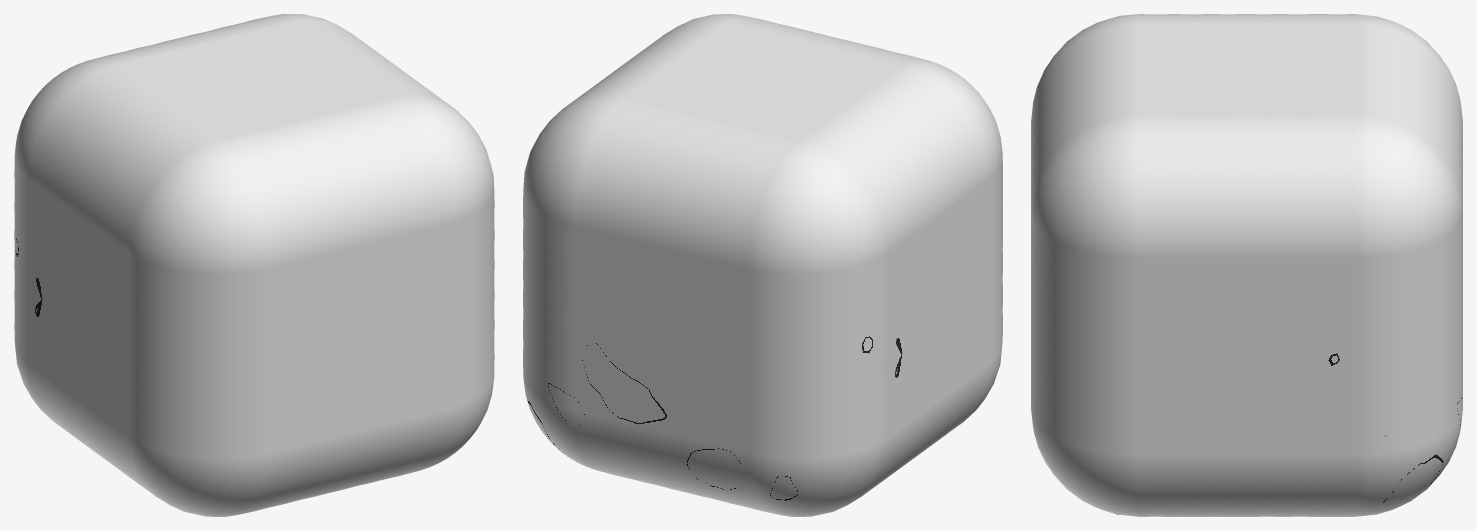
File: cube_100mm_fillet_25mm_cgal_authalic_result.glb
3 renders of one model, left to right at view 1: azimuth 30°, elevation 25°; view 2: azimuth 150°, elevation 25°; view 3: azimuth 270°, elevation 25°, orthographic. The views are drawn at different scales.
Bounding box in the file's own units: 100 × 100 × 100.
Materials: 1 (1 with a texture image).
